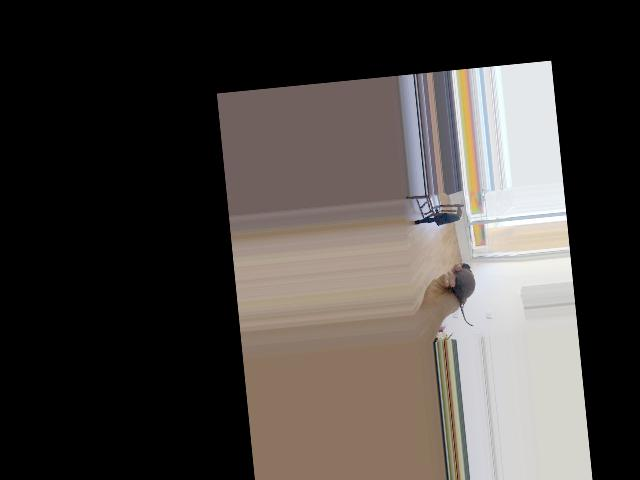beet: (451, 261, 478, 326)
